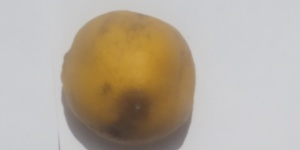BAD: (61, 10, 199, 147)
